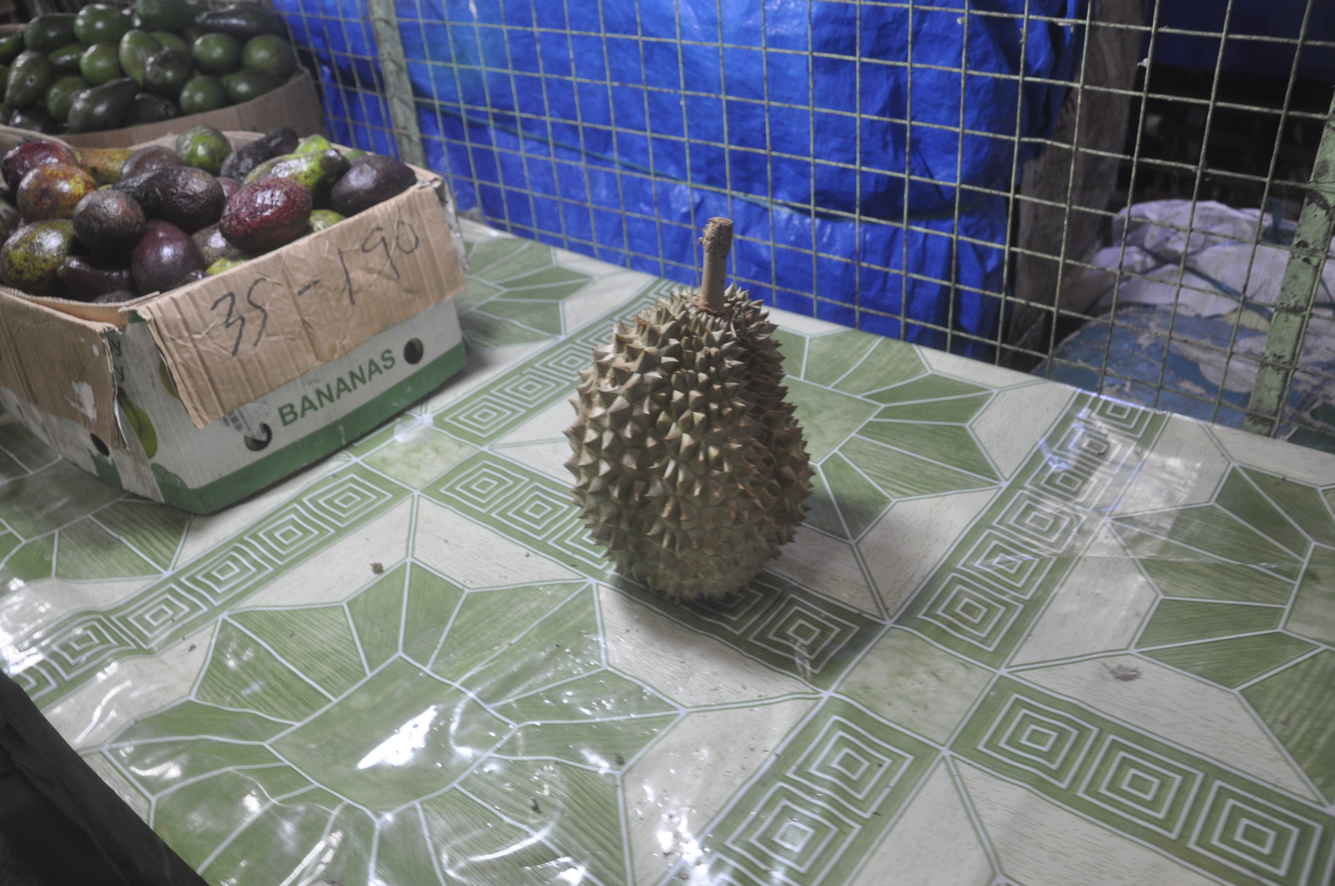mature: (554, 201, 837, 612)
